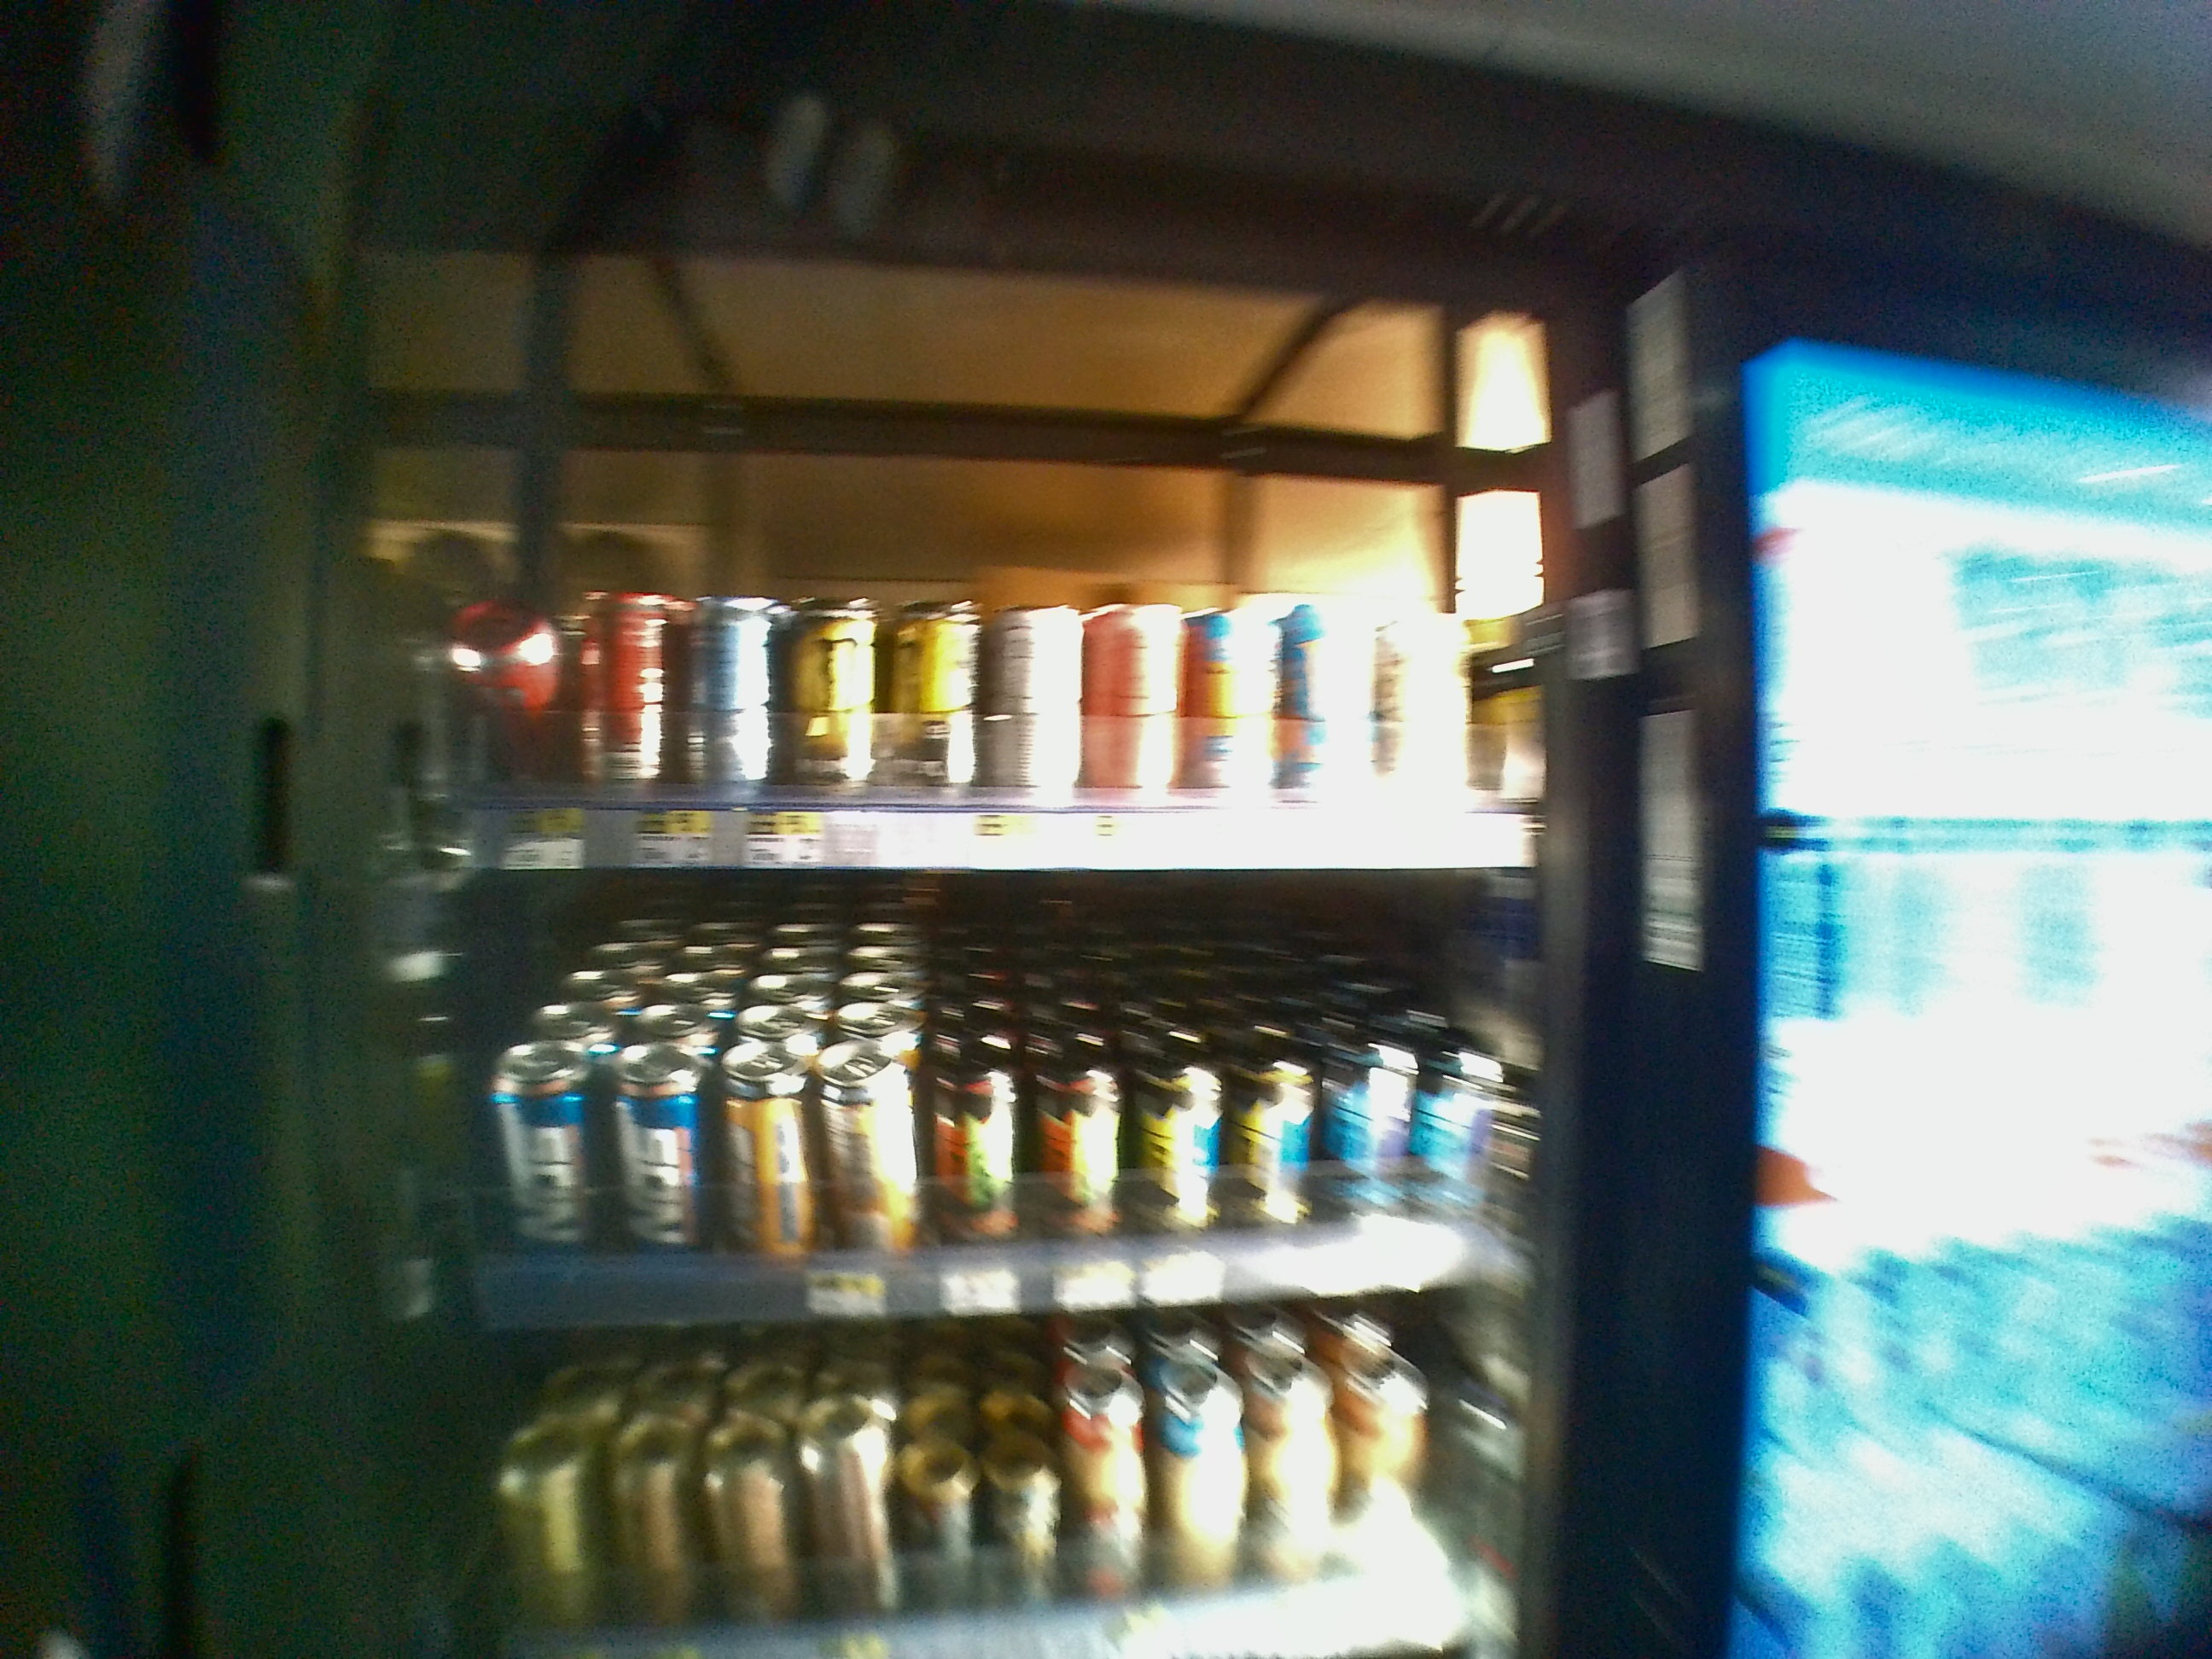shelf: (354, 282, 1569, 871), (347, 877, 1568, 1317)
